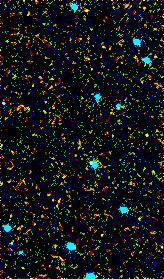star: (136, 118, 164, 148)
